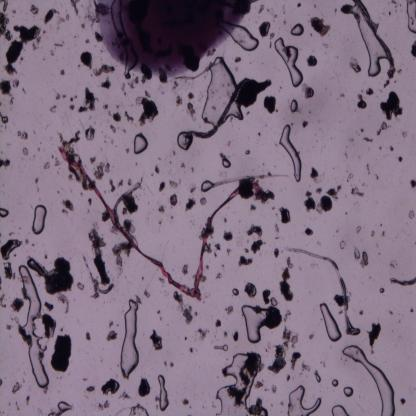Air bubble: (340, 345, 396, 415), (16, 266, 48, 388), (214, 351, 269, 416), (206, 54, 243, 127), (350, 5, 386, 78), (274, 37, 304, 88), (120, 299, 139, 379), (278, 124, 302, 184), (286, 384, 322, 416), (220, 23, 260, 51), (242, 303, 267, 342), (320, 302, 343, 343), (31, 204, 47, 234), (157, 374, 169, 411), (131, 132, 149, 156), (405, 0, 416, 36), (176, 130, 193, 151), (48, 402, 74, 415), (289, 22, 305, 37), (331, 404, 351, 415), (130, 404, 148, 415), (201, 179, 213, 192), (221, 156, 232, 170), (343, 386, 354, 397), (0, 206, 10, 218), (290, 98, 298, 113), (313, 370, 321, 383), (270, 298, 280, 308), (231, 286, 240, 296), (378, 286, 386, 294), (332, 378, 338, 386)
Background material: (27, 254, 74, 297), (5, 25, 42, 76), (236, 77, 274, 109), (51, 336, 73, 374), (170, 291, 194, 325), (379, 91, 404, 121), (134, 95, 158, 126), (110, 242, 133, 268), (279, 266, 295, 302), (0, 236, 22, 261), (268, 345, 286, 373), (88, 229, 108, 253), (368, 322, 382, 354), (310, 18, 332, 38), (79, 88, 96, 113), (100, 377, 121, 397), (266, 306, 282, 332), (92, 160, 111, 181), (283, 328, 300, 351), (238, 178, 256, 199), (302, 188, 316, 214), (0, 14, 13, 42), (316, 195, 334, 215), (91, 64, 116, 78), (57, 132, 82, 146), (42, 315, 56, 340), (254, 187, 274, 204), (149, 329, 163, 353), (137, 376, 152, 398), (123, 196, 139, 215), (56, 293, 70, 314), (264, 94, 278, 115), (246, 224, 264, 240), (79, 51, 94, 70), (278, 205, 292, 225), (289, 351, 303, 371), (43, 8, 59, 25), (348, 56, 363, 74), (250, 237, 264, 256), (301, 82, 315, 101), (327, 184, 342, 201), (244, 282, 258, 300), (2, 262, 16, 280), (200, 222, 214, 239), (0, 78, 12, 97), (10, 298, 25, 313), (356, 94, 369, 111), (186, 103, 197, 121), (258, 22, 272, 36), (195, 328, 209, 342), (340, 3, 356, 15), (86, 123, 96, 142), (60, 198, 74, 211), (97, 399, 111, 412), (128, 74, 140, 89), (238, 255, 253, 267), (376, 121, 387, 137), (185, 198, 197, 212), (105, 329, 119, 341), (333, 294, 345, 308), (29, 1, 40, 16), (71, 0, 81, 16), (99, 78, 112, 90), (352, 187, 365, 199), (93, 31, 104, 45), (99, 209, 110, 223), (309, 167, 319, 182), (124, 110, 134, 125), (268, 32, 276, 50), (306, 56, 318, 68), (268, 7, 278, 21), (168, 193, 178, 207), (354, 246, 363, 261), (304, 227, 316, 238), (223, 230, 234, 242), (16, 130, 29, 140), (57, 14, 70, 24), (361, 252, 369, 268), (120, 81, 128, 97), (388, 257, 399, 268), (43, 300, 54, 311), (300, 363, 312, 373), (213, 344, 228, 352), (254, 379, 264, 391), (175, 94, 184, 107), (262, 289, 269, 305), (0, 292, 7, 308), (108, 179, 116, 193), (86, 383, 96, 394), (76, 281, 86, 292), (224, 305, 234, 316), (283, 310, 292, 322), (410, 41, 416, 59), (119, 392, 131, 401), (124, 221, 136, 230), (112, 112, 122, 122), (42, 160, 52, 170), (0, 158, 10, 168), (168, 180, 178, 190), (142, 289, 151, 300), (11, 383, 20, 394), (285, 258, 294, 269), (232, 330, 239, 344), (181, 264, 189, 276), (53, 156, 61, 168), (158, 181, 166, 193), (407, 208, 415, 220), (0, 0, 8, 12), (0, 111, 8, 123), (409, 177, 416, 190), (398, 396, 407, 406), (53, 41, 64, 49), (12, 79, 20, 90), (153, 164, 161, 175), (70, 93, 78, 104), (366, 163, 372, 177), (14, 400, 21, 412), (158, 206, 166, 216), (182, 396, 190, 406), (215, 318, 222, 329), (49, 104, 57, 113), (187, 90, 195, 99), (362, 137, 374, 143), (144, 90, 152, 99), (25, 394, 31, 406), (258, 5, 266, 14), (205, 243, 211, 255), (366, 88, 374, 97), (250, 204, 258, 213), (270, 384, 277, 394), (22, 146, 29, 156), (85, 332, 92, 342), (90, 154, 97, 164), (273, 247, 279, 258), (315, 185, 323, 193), (61, 207, 69, 215), (189, 186, 196, 195), (398, 154, 404, 164), (188, 346, 194, 356), (226, 246, 232, 256), (214, 272, 222, 279), (118, 180, 125, 188), (234, 56, 242, 63), (200, 198, 207, 206), (110, 126, 117, 134), (32, 41, 37, 52), (49, 48, 55, 57), (358, 308, 364, 317), (180, 161, 186, 170), (356, 226, 362, 235), (56, 92, 62, 101), (214, 242, 220, 251), (340, 240, 346, 249), (102, 103, 109, 110), (302, 120, 309, 127), (169, 361, 175, 369), (85, 38, 91, 46), (21, 87, 27, 95), (69, 104, 75, 112), (9, 97, 15, 105), (59, 68, 65, 76), (34, 176, 39, 185), (223, 330, 228, 339), (6, 324, 12, 331), (371, 230, 376, 238), (37, 34, 41, 44), (88, 197, 92, 206), (0, 378, 3, 390), (212, 252, 218, 258), (125, 147, 130, 154), (287, 373, 291, 381), (128, 178, 132, 186), (62, 93, 67, 99), (390, 145, 394, 151)
Cellulose filter fibre: (285, 246, 359, 336), (354, 1, 396, 80), (211, 170, 290, 192), (81, 252, 114, 296), (113, 182, 141, 224), (390, 274, 416, 286)
Cotton: (56, 147, 274, 300)
Pen: (92, 0, 252, 79)
